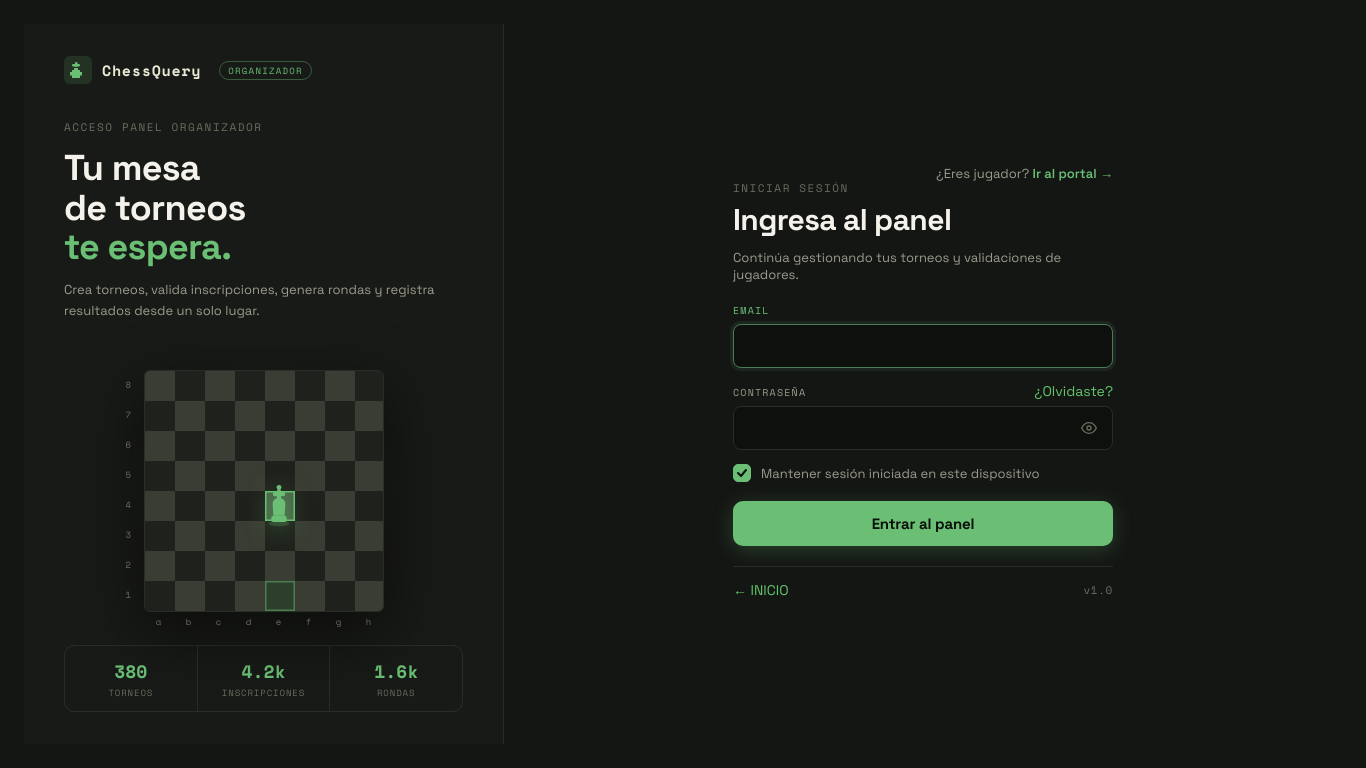
Organizer LoginPage › muestra error global del backend cuando login falla
The image size is (1366, 768).
Step 1. Type "org@demo.cl" into the field named "email" → (923, 346), box [733,324,1113,368]
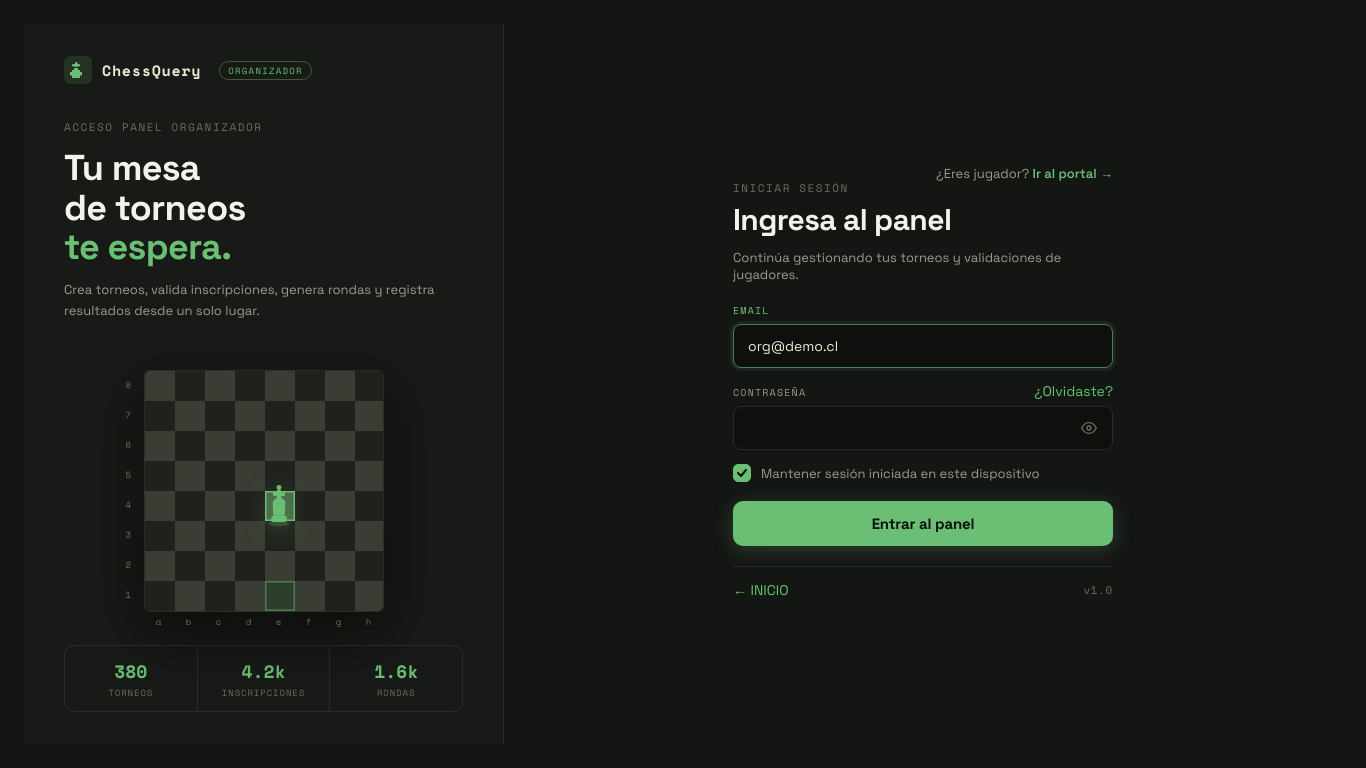
Step 2. Type "incorrecta" into the password field named "password" → (923, 428), box [733,406,1113,450]
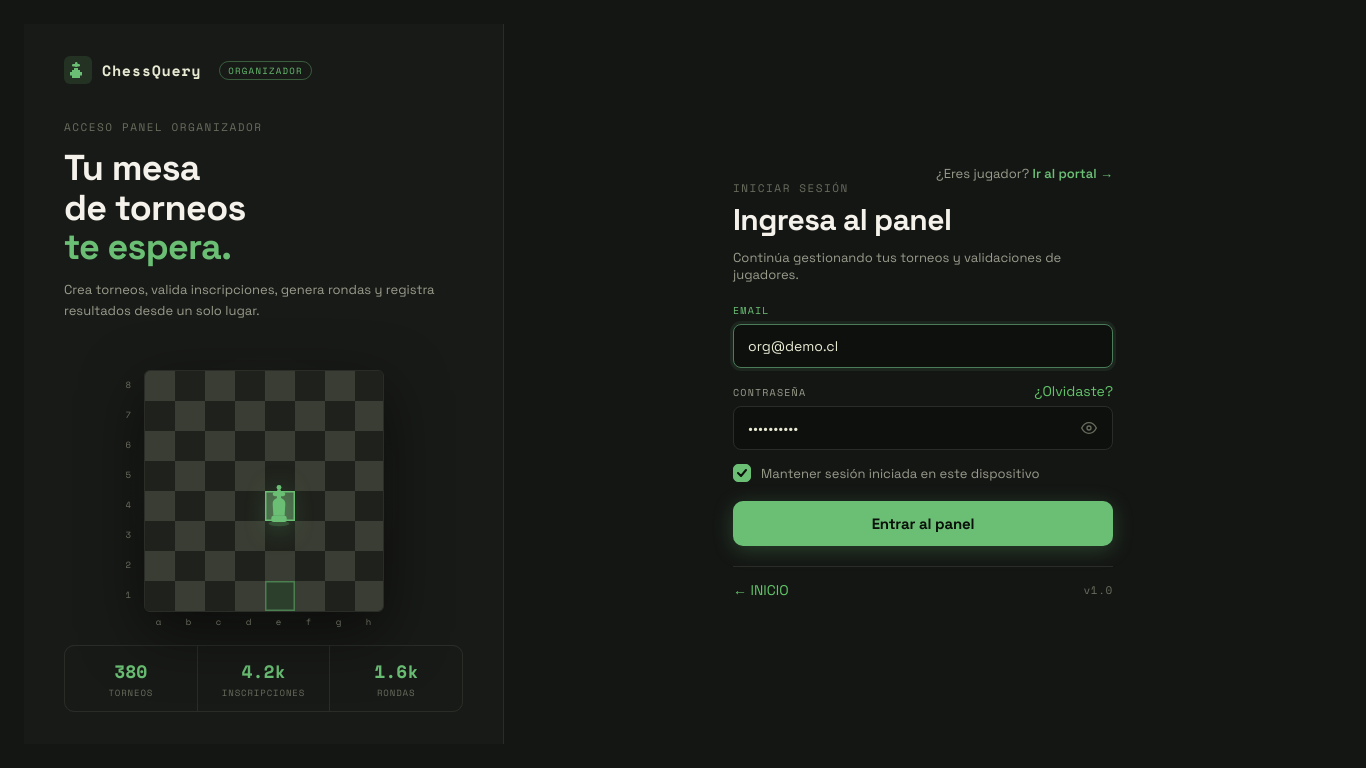
Step 3. Submit the form, box [733,302,1113,599]
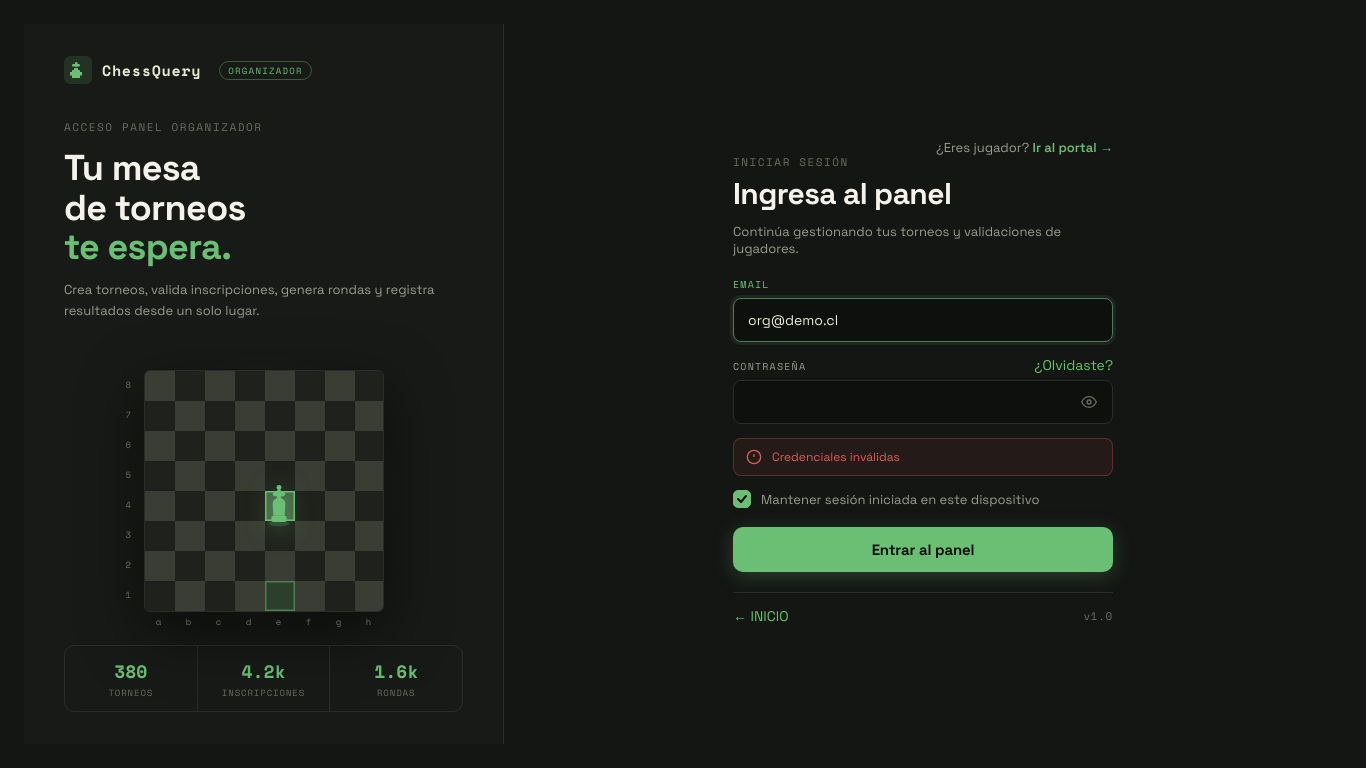
expect the text "Credenciales inválidas" is shown: met, box [772,448,900,464]
expect the password field named "password" is empty: met, box [733,380,1113,424]
